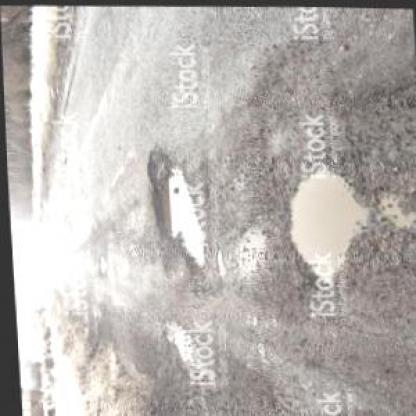pothole: (277, 158, 365, 280), (140, 146, 207, 276)
